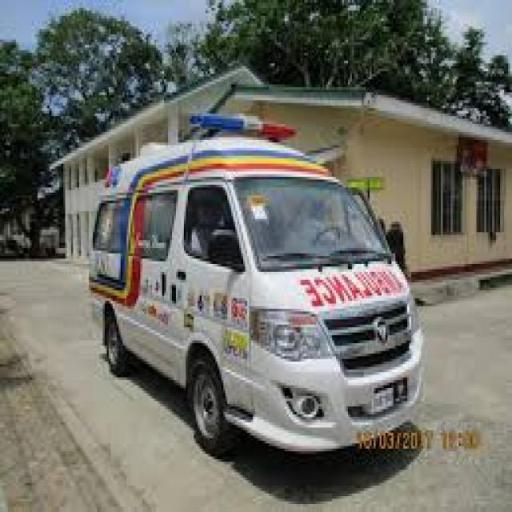Police car: (89, 114, 427, 462)
